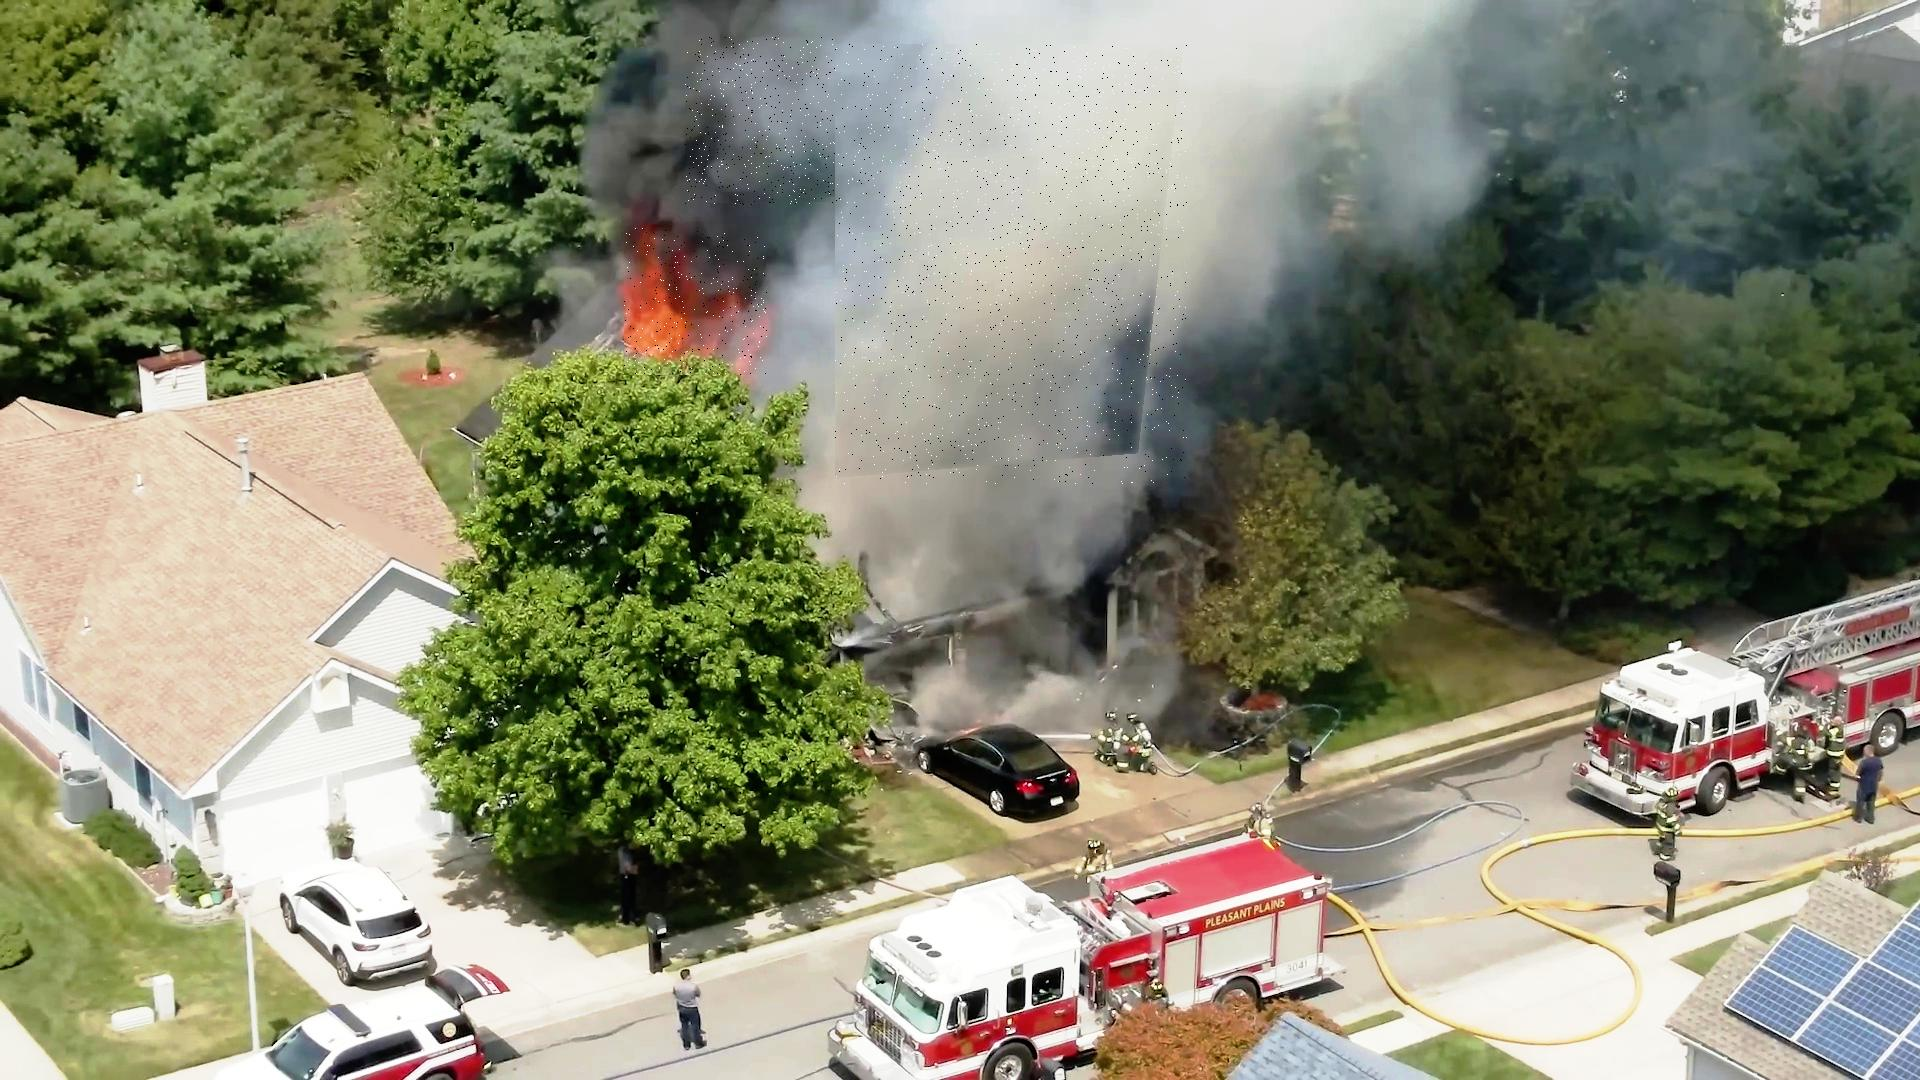fire: (624, 228, 767, 375)
smoke: (835, 45, 1187, 485), (686, 38, 835, 206)
